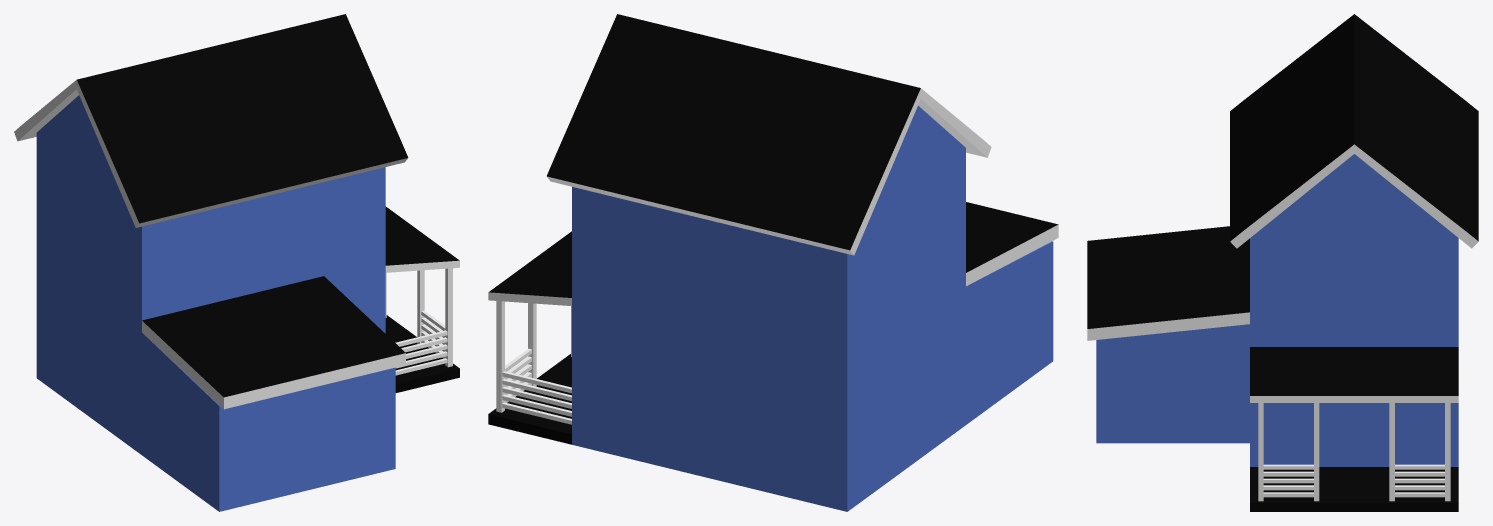
File: house.glb
The picture shows the model from 3 angles, left to right: view 1: azimuth 30°, elevation 25°; view 2: azimuth 150°, elevation 25°; view 3: azimuth 270°, elevation 25°; orthographic projection. The views are drawn at different scales.
Visible parts, largest first — view 1: Cube.008; view 2: Cube.008; view 3: Cube.008.
Part boxes in pixels (x1=…): Cube.008: x1=14, y1=14, x2=459, y2=511; Cube.008: x1=488, y1=14, x2=1058, y2=511; Cube.008: x1=1087, y1=14, x2=1478, y2=511.
Size of the model in its own units: 14.56 by 14.31 by 15.04.
3 materials, 3 textured.
